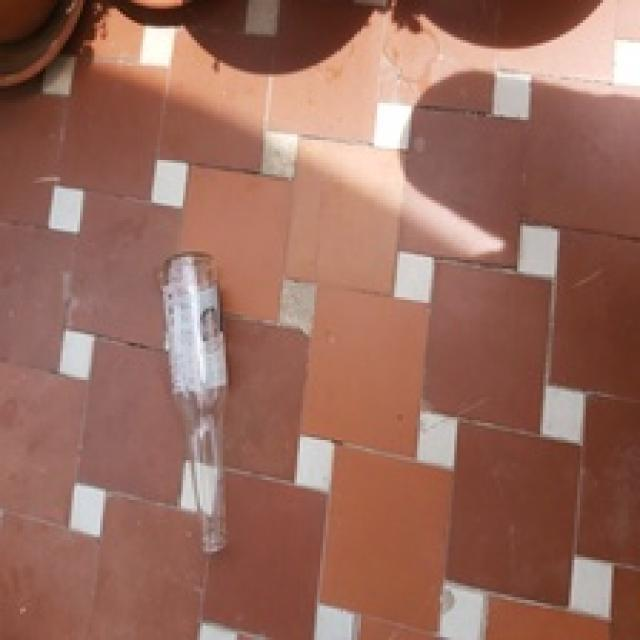garbage: (118, 237, 290, 567), (120, 238, 288, 572)
